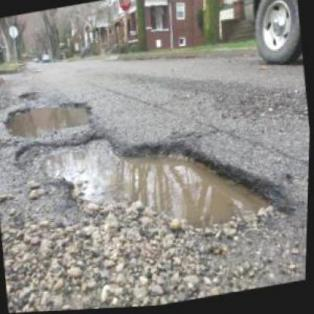Hueco: (8, 102, 297, 271), (1, 95, 96, 144), (17, 88, 40, 104)
